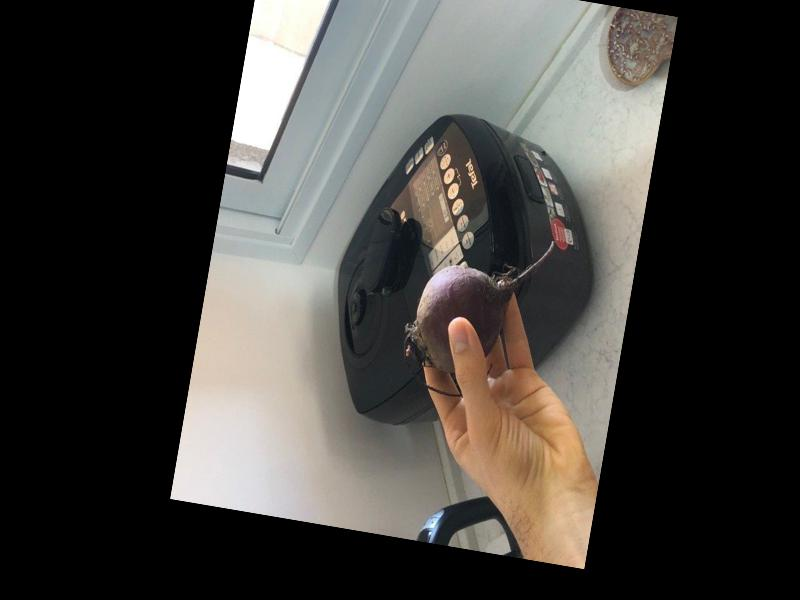Beet: (395, 219, 556, 407)
